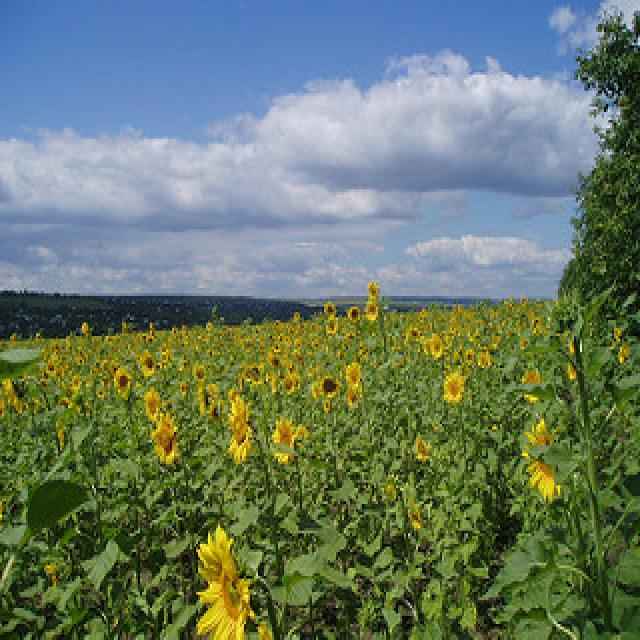sunflower: (190, 525, 250, 640), (518, 423, 576, 505), (222, 387, 258, 469), (262, 419, 304, 469), (147, 419, 183, 469), (193, 372, 223, 420), (138, 387, 170, 424), (440, 369, 470, 407), (319, 369, 347, 407), (114, 364, 132, 404), (138, 348, 156, 380), (429, 332, 447, 364), (363, 293, 381, 323), (345, 301, 365, 328), (322, 296, 338, 317), (45, 358, 59, 382)
